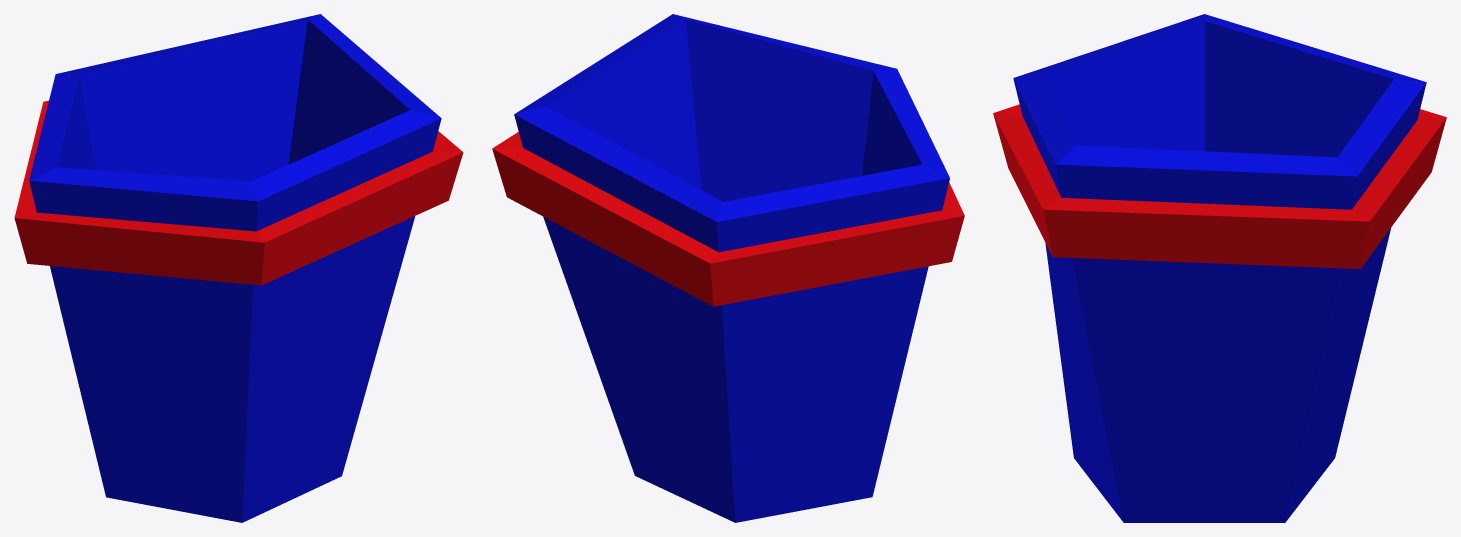
The model's file is SM_Bucket1.fbx.
3 views of the same model, side by side, from view 1: azimuth 30°, elevation 25°; view 2: azimuth 150°, elevation 25°; view 3: azimuth 270°, elevation 25° (orthographic). The views are drawn at different scales.
Parts seen in each view (by area): view 1: SM_Bucket1; view 2: SM_Bucket1; view 3: SM_Bucket1.
Part boxes in pixels (x1,y1,x2,y2): SM_Bucket1: (14,14,463,522); SM_Bucket1: (492,14,964,522); SM_Bucket1: (993,14,1446,522).
Bounding box in the file's own units: 20.5 × 18.51 × 18.94.
